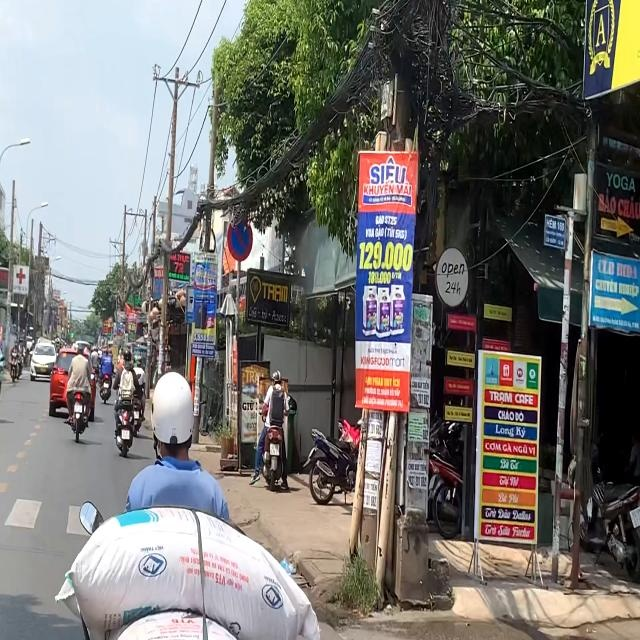bien_cam: (228, 215, 254, 261)
